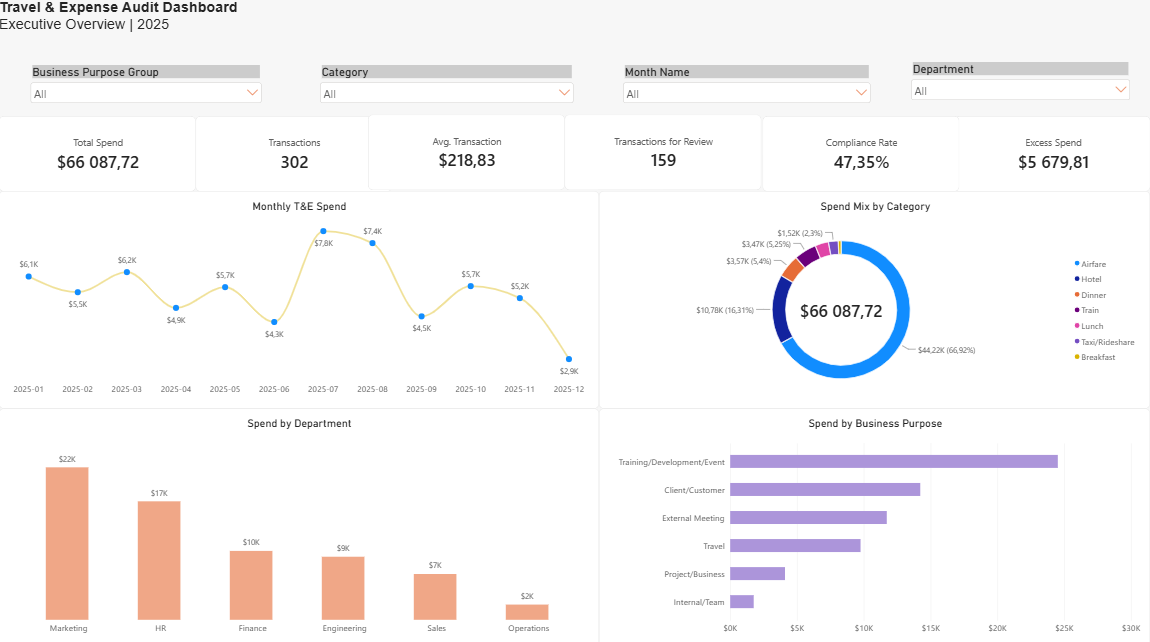

The page's visual inventory and layout, read from the dashboard file:
{"tool":"powerbi","page":{"name":"Executive Overview","canvas":[1920,1080],"ordinal":0},"visuals":[{"type":"textbox","box":[0,0,417.5,70],"z":0},{"type":"cardVisual","fields":{"Data":["TE_Audit.Total Spend"]},"box":[0,196,328.6,126.5],"z":1000,"group":"g2"},{"type":"cardVisual","fields":{"Data":["TE_Audit.Transactions for Review"]},"box":[942.9,193.5,328.6,126.5],"z":2000,"group":"g2"},{"type":"cardVisual","fields":{"Data":["TE_Audit.Excess Spend"]},"box":[1591.4,196,328.6,126.5],"z":3000,"group":"g2"},{"type":"cardVisual","fields":{"Data":["TE_Audit.Compliance Rate"]},"box":[1271.4,196,328.6,126.5],"z":4000,"group":"g2"},{"type":"cardVisual","fields":{"Data":["TE_Audit.Transactions"]},"box":[328.6,196,328.6,126.5],"z":5000,"group":"g2"},{"type":"donutChart","title":"Spend Mix by Category","fields":{"Category":["TE_Audit.Category"],"Y":["TE_Audit.Total Spend"]},"box":[1000,320,920,362.5],"z":6000},{"type":"lineChart","title":"Monthly T&E Spend","fields":{"Category":["TE_Audit.Year-Month"],"Y":["TE_Audit.Total Spend"]},"box":[0,320,1000,362.5],"z":7000},{"type":"clusteredColumnChart","title":"Spend by Department","fields":{"Category":["TE_Audit.Department"],"Y":["TE_Audit.Total Spend"]},"box":[0,682.5,1000,397.5],"z":8000},{"type":"slicer","fields":{"Values":["TE_Audit.Department"]},"box":[1515,105,375,85],"z":9000},{"type":"slicer","fields":{"Values":["TE_Audit.Category"]},"box":[530,110,432.5,75],"z":10000},{"type":"slicer","fields":{"Values":["TE_Audit.Month Name"]},"box":[1035,110,422.5,70],"z":11000},{"type":"clusteredBarChart","title":"Spend by Business Purpose","fields":{"Category":["TE_Audit.Business Purpose Group"],"Y":["TE_Audit.Total Spend"]},"box":[1000,682.5,920,397.5],"z":12000},{"type":"slicer","fields":{"Values":["TE_Audit.Business Purpose Group"]},"box":[47.5,110,395,75],"z":13000},{"type":"cardVisual","fields":{"Data":["TE_Audit.AVG.Transacation"]},"box":[614.1,192.5,328.6,126.5],"z":14000,"group":"g2"},{"type":"group","id":"g1","title":"Group 1","box":[0,192.5,1920,130],"z":14001},{"type":"group","id":"g2","title":"Group 2","box":[0,192.5,1920,130],"z":14002,"group":"g1"}]}

Visuals, with their boxes in screenshot pixels (x1, y1, x2, y2), scaled from the page's 1920x1080 canvas onto the 1150x642 screenshot:
textbox: l=0, t=0, r=250, b=42
cardVisual - TE_Audit.Total Spend: l=0, t=117, r=197, b=192
cardVisual - TE_Audit.Transactions for Review: l=565, t=115, r=762, b=190
cardVisual - TE_Audit.Excess Spend: l=953, t=117, r=1149, b=192
cardVisual - TE_Audit.Compliance Rate: l=762, t=117, r=958, b=192
cardVisual - TE_Audit.Transactions: l=197, t=117, r=394, b=192
"Spend Mix by Category" donutChart: l=599, t=190, r=1149, b=406
"Monthly T&E Spend" lineChart: l=0, t=190, r=599, b=406
"Spend by Department" clusteredColumnChart: l=0, t=406, r=599, b=641
slicer - TE_Audit.Department: l=907, t=62, r=1132, b=113
slicer - TE_Audit.Category: l=317, t=65, r=576, b=110
slicer - TE_Audit.Month Name: l=620, t=65, r=873, b=107
"Spend by Business Purpose" clusteredBarChart: l=599, t=406, r=1149, b=641
slicer - TE_Audit.Business Purpose Group: l=28, t=65, r=265, b=110
cardVisual - TE_Audit.AVG.Transacation: l=368, t=114, r=565, b=190
"Group 1" group: l=0, t=114, r=1149, b=192
"Group 2" group: l=0, t=114, r=1149, b=192
